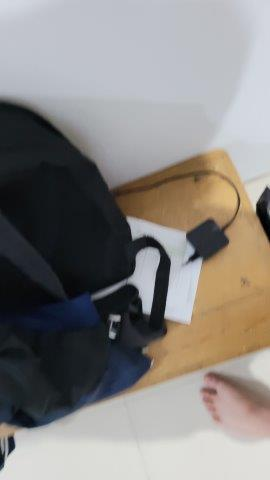kertas: (118, 215, 204, 322)
